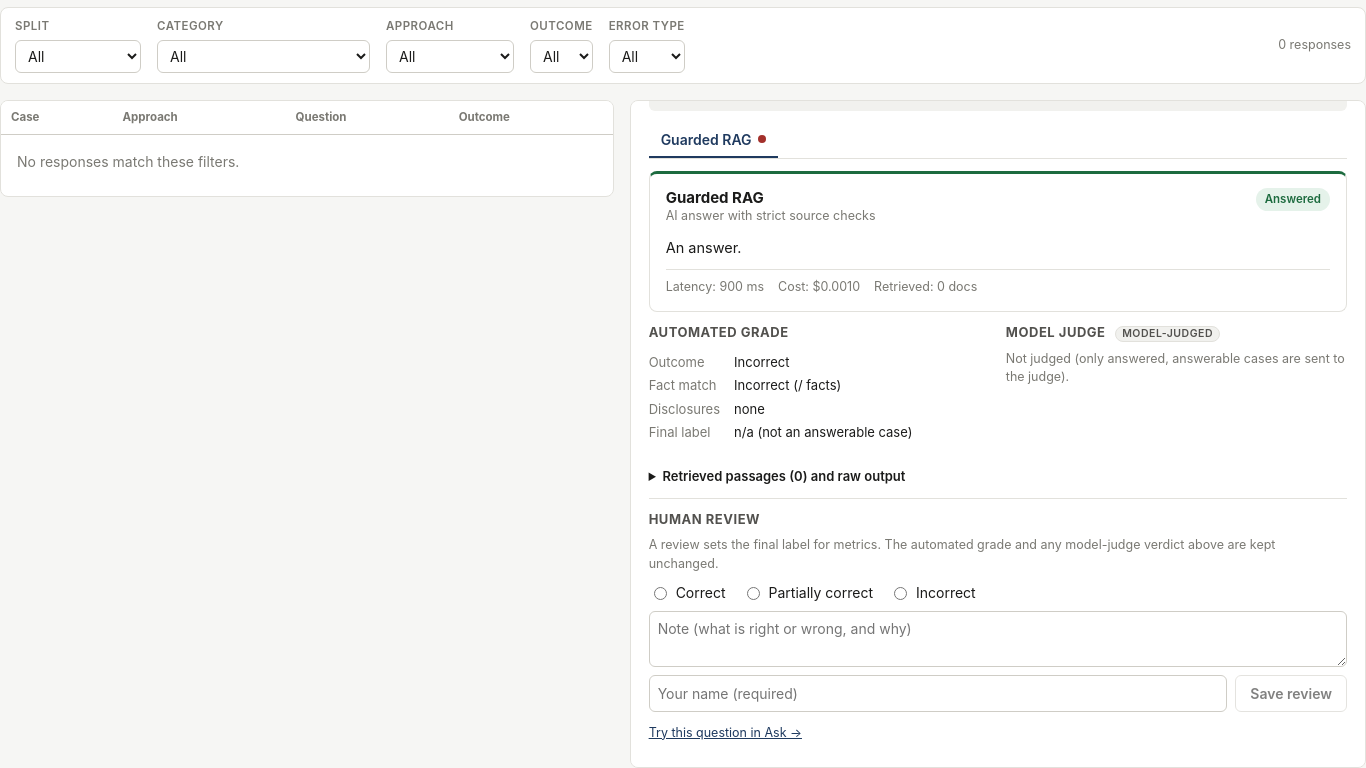
Test: Review form › needs an explicit verdict and a reviewer name before it can be saved
(page scrolled)
Expected: the button "Save review" is disabled, top-left (1235, 675), bottom-right (1347, 712)
Expected: the radio button labelled "Correct" is not checked, top-left (654, 587), bottom-right (667, 600)
Click the radio button labelled "Incorrect" at point(900, 594), box top-left (894, 587), bottom-right (907, 600)
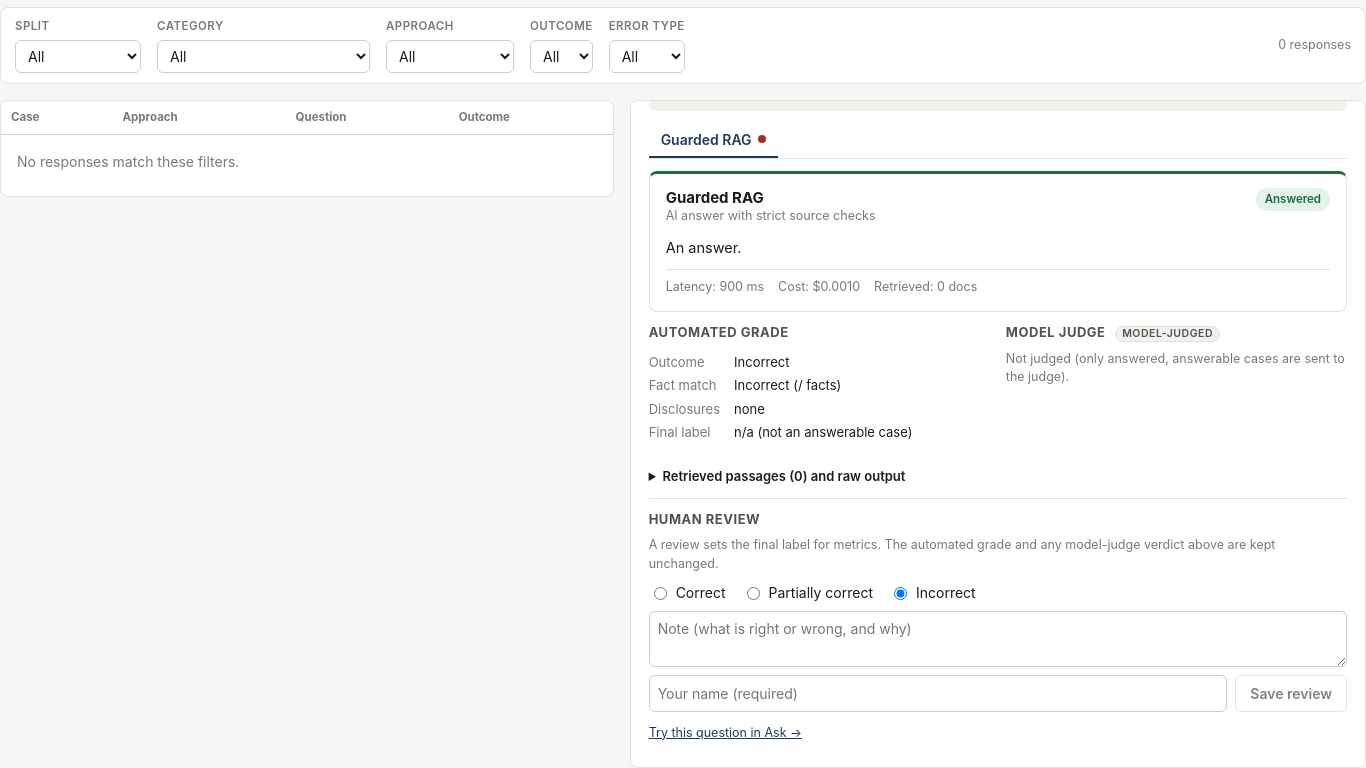
Expected: the button "Save review" is disabled, top-left (1235, 675), bottom-right (1347, 712)
Type "Dana (Policy owner)" into the field named "Reviewer name" at point(938, 693), box top-left (649, 675), bottom-right (1227, 712)
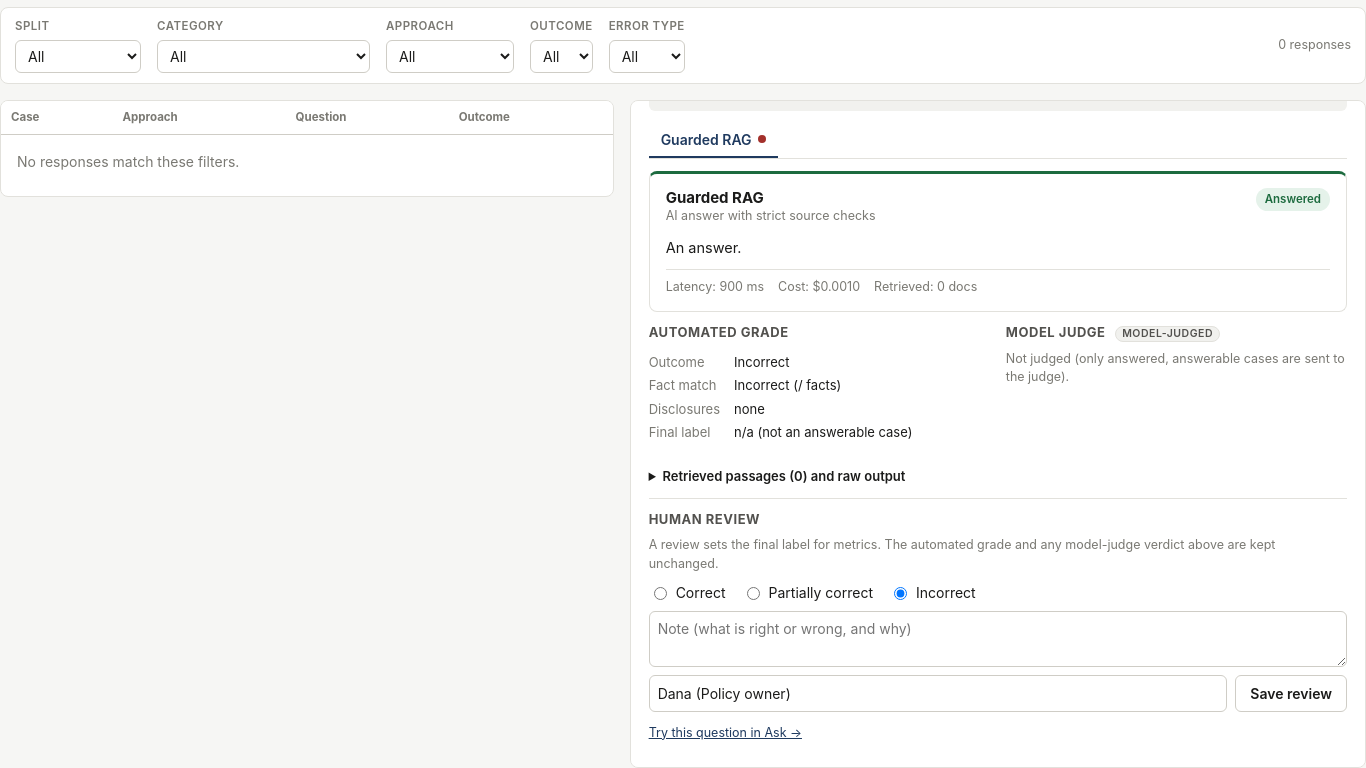
Expected: the button "Save review" is enabled, top-left (1235, 675), bottom-right (1347, 712)
